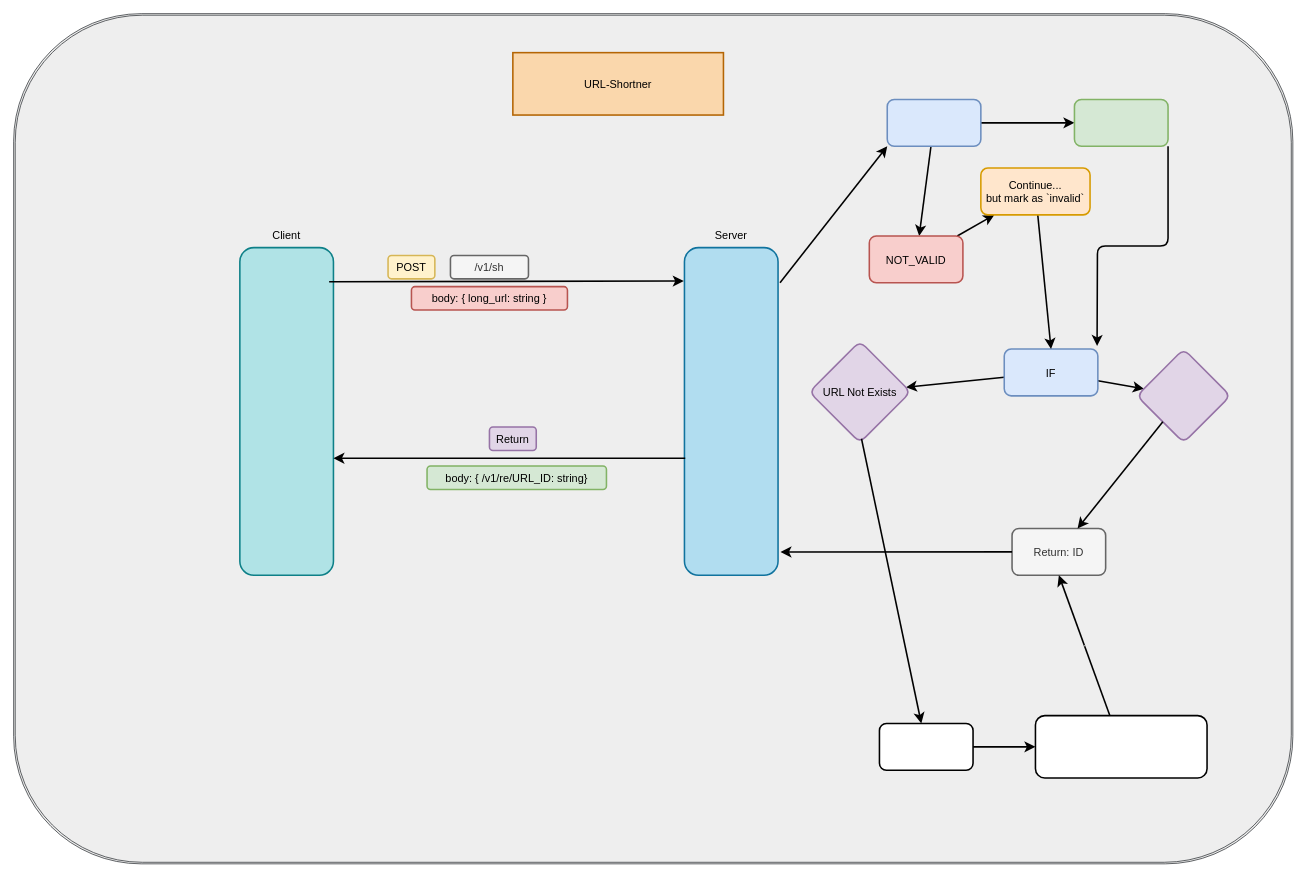
Some shapes in this 1307 by 877 pixel diagram are drawn without their labels. The box of each missing label's shape, as (x1, y1, x2, y2) in pixels:
Gen an ID: (878, 722, 973, 771)
IF URL: (886, 98, 981, 147)
Save in DB: long_url : ID: (1034, 714, 1207, 778)
URL Exists: (1136, 348, 1231, 443)
VALID: (1073, 98, 1168, 147)
